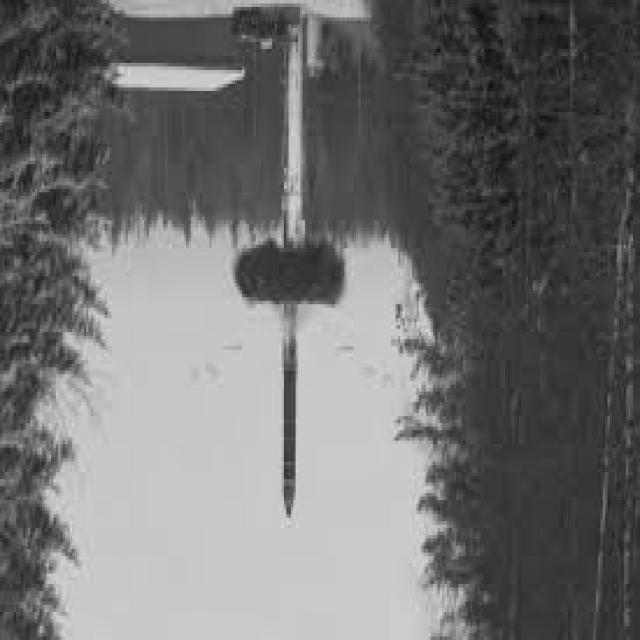Missile: (277, 308, 303, 519)
